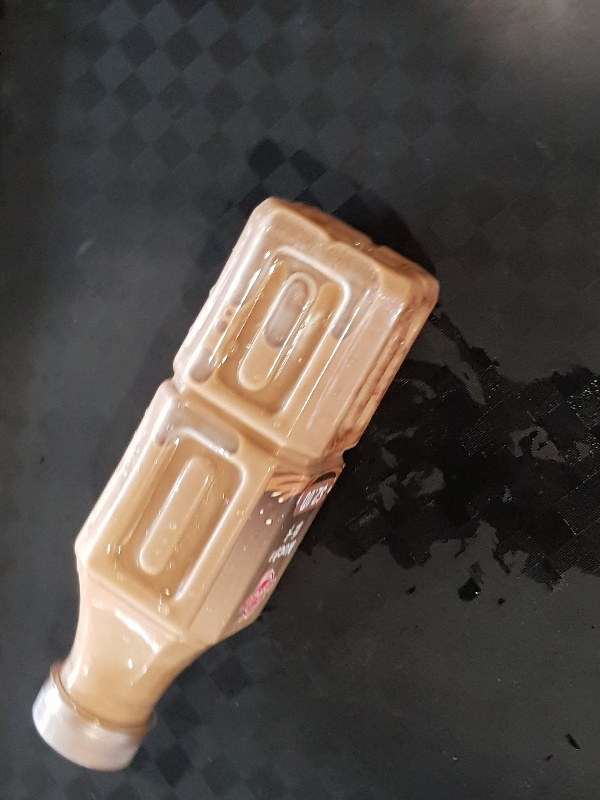Mocha: (30, 193, 441, 772)
